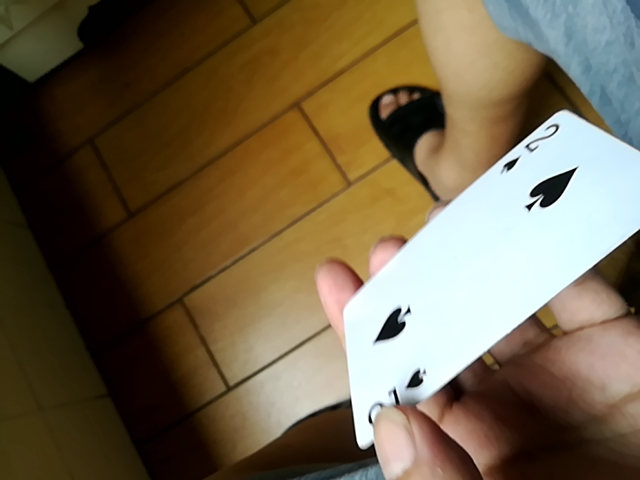ht 2: (328, 106, 640, 416)
